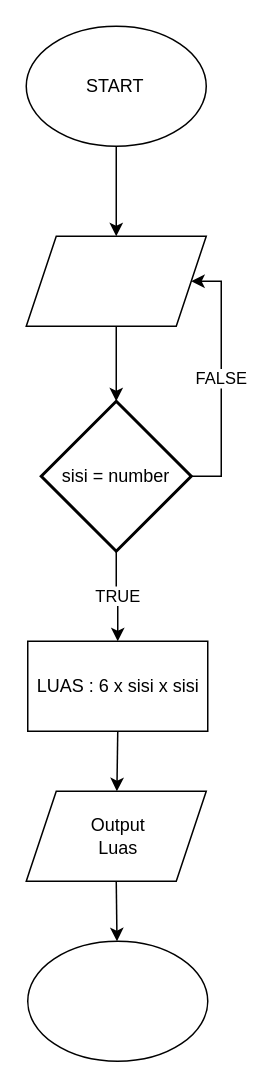
This 273x1088 diagram has some shape labels left out. Each missing label, with the centre of its shape:
"SELESAI" belongs at (117,1000).
"sisi" belongs at (115,280).
